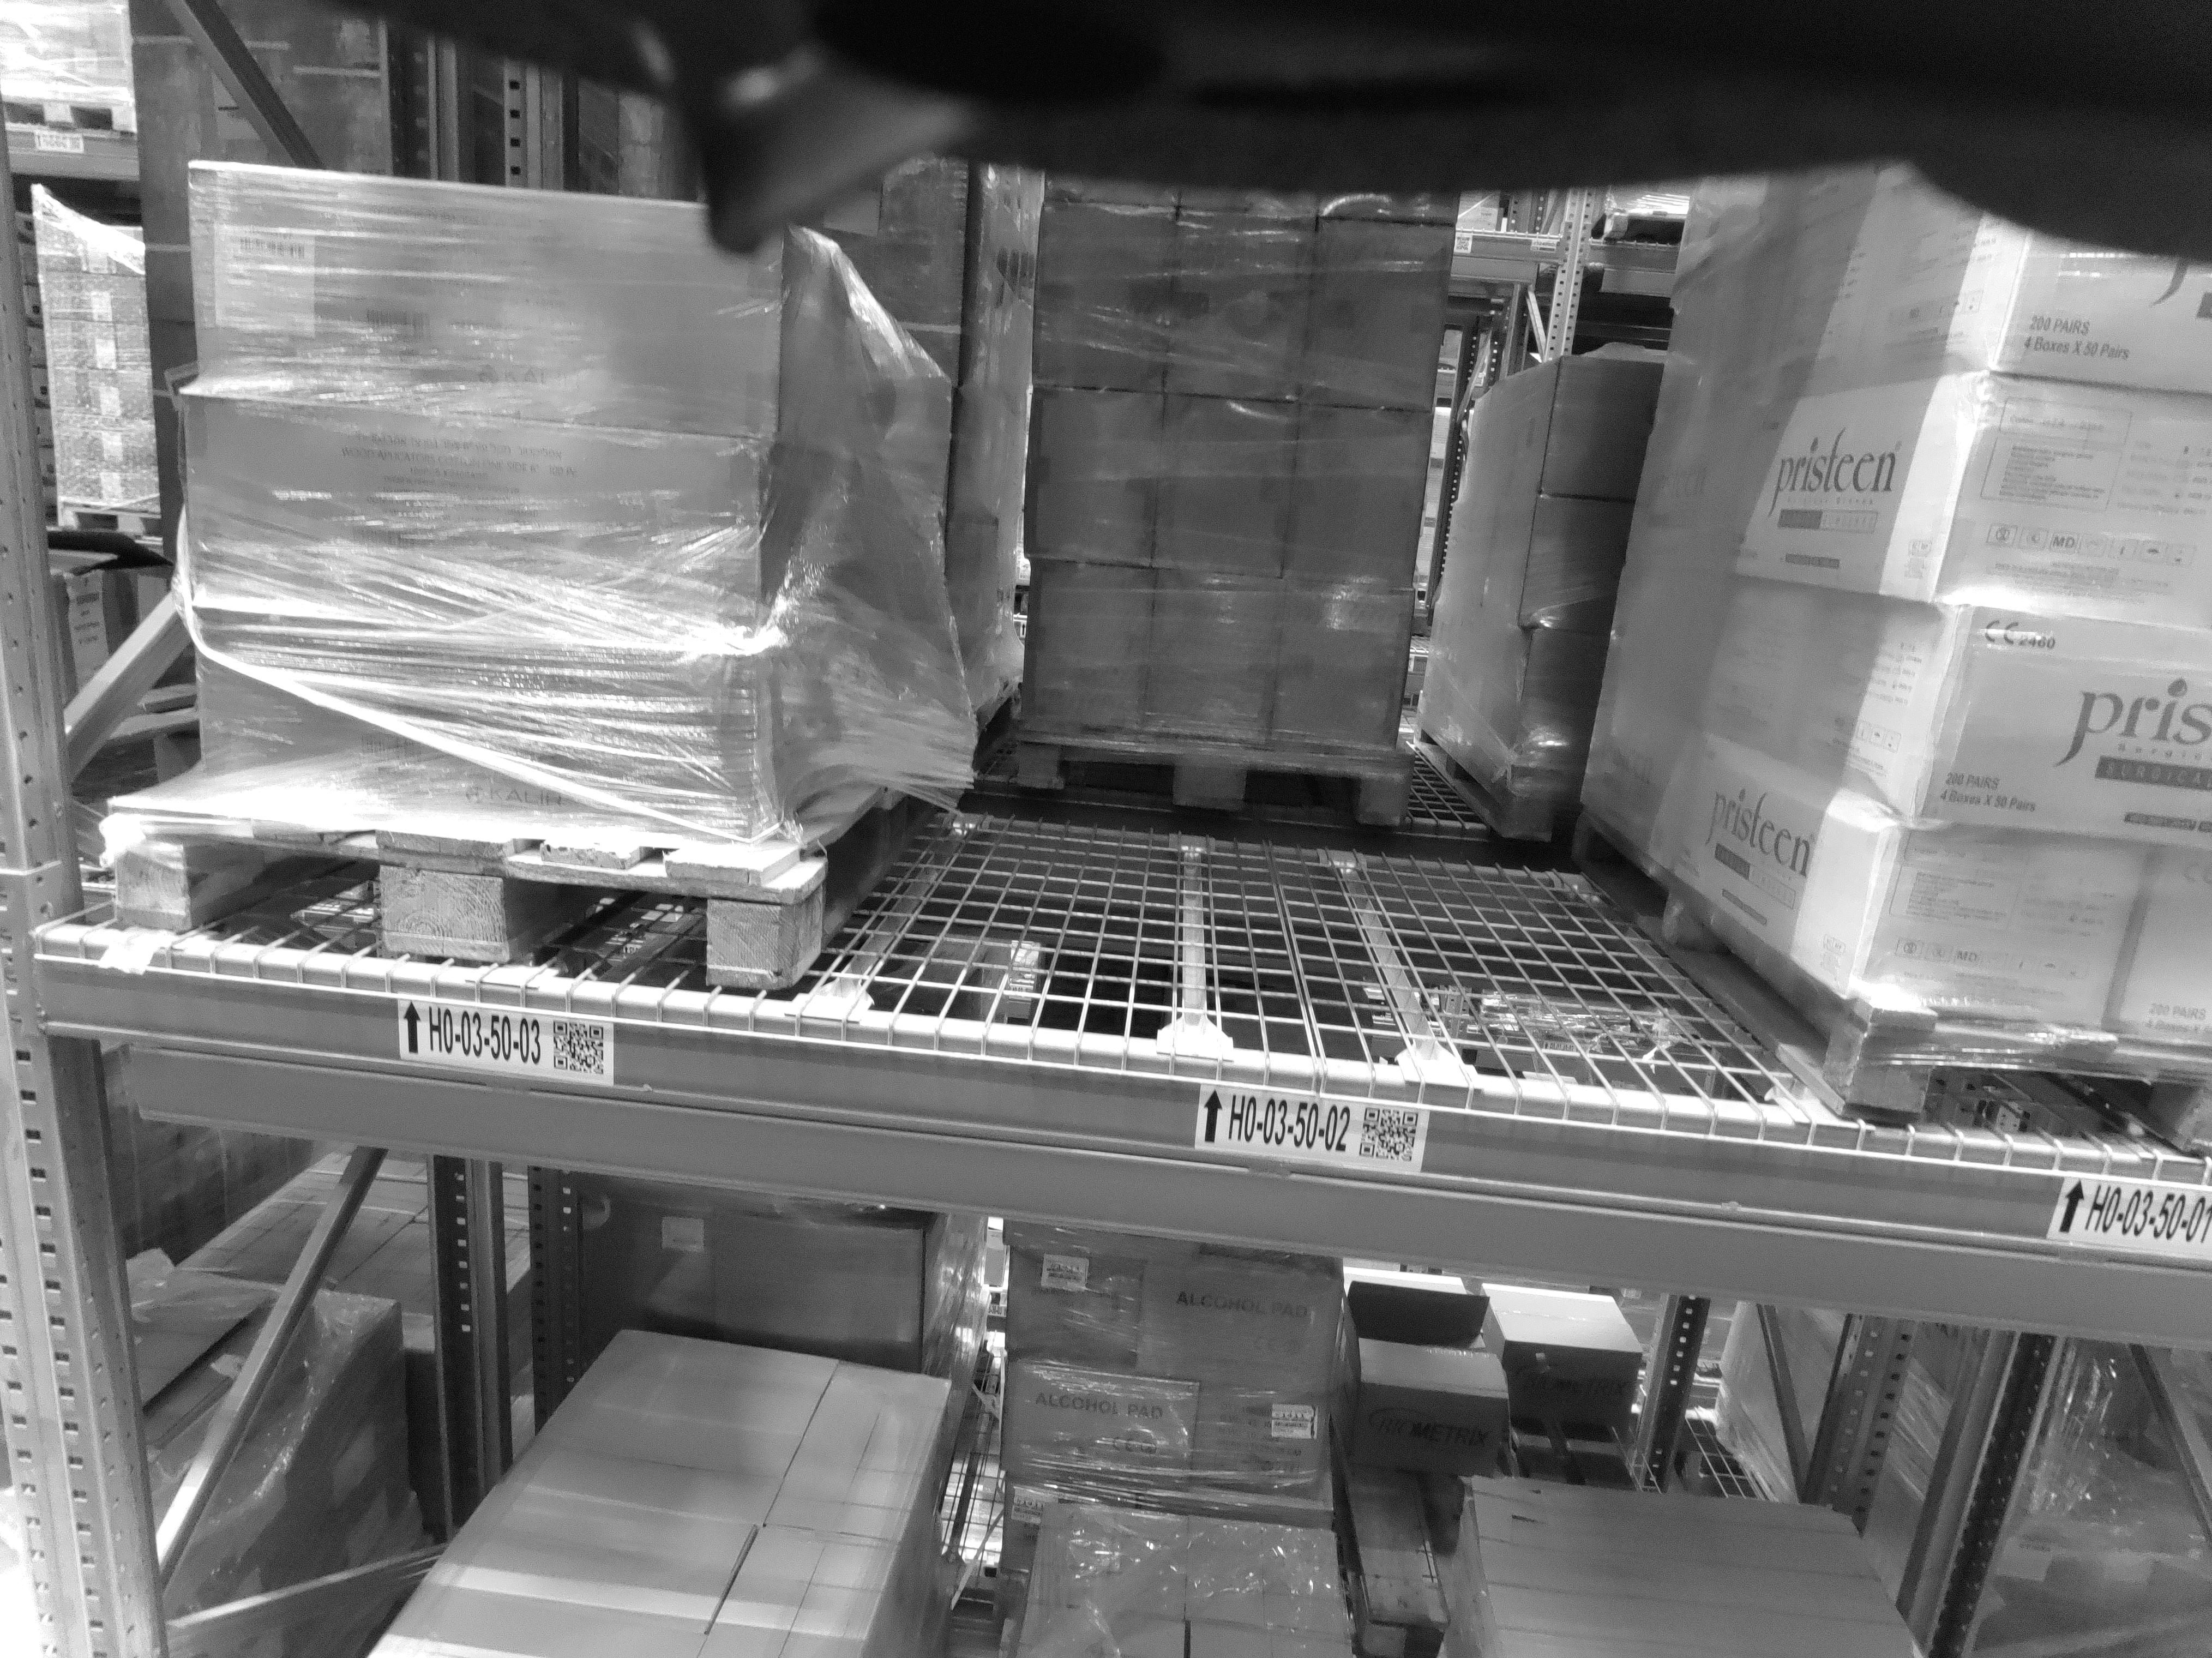empty-shelf: (942, 174, 1660, 1071)
